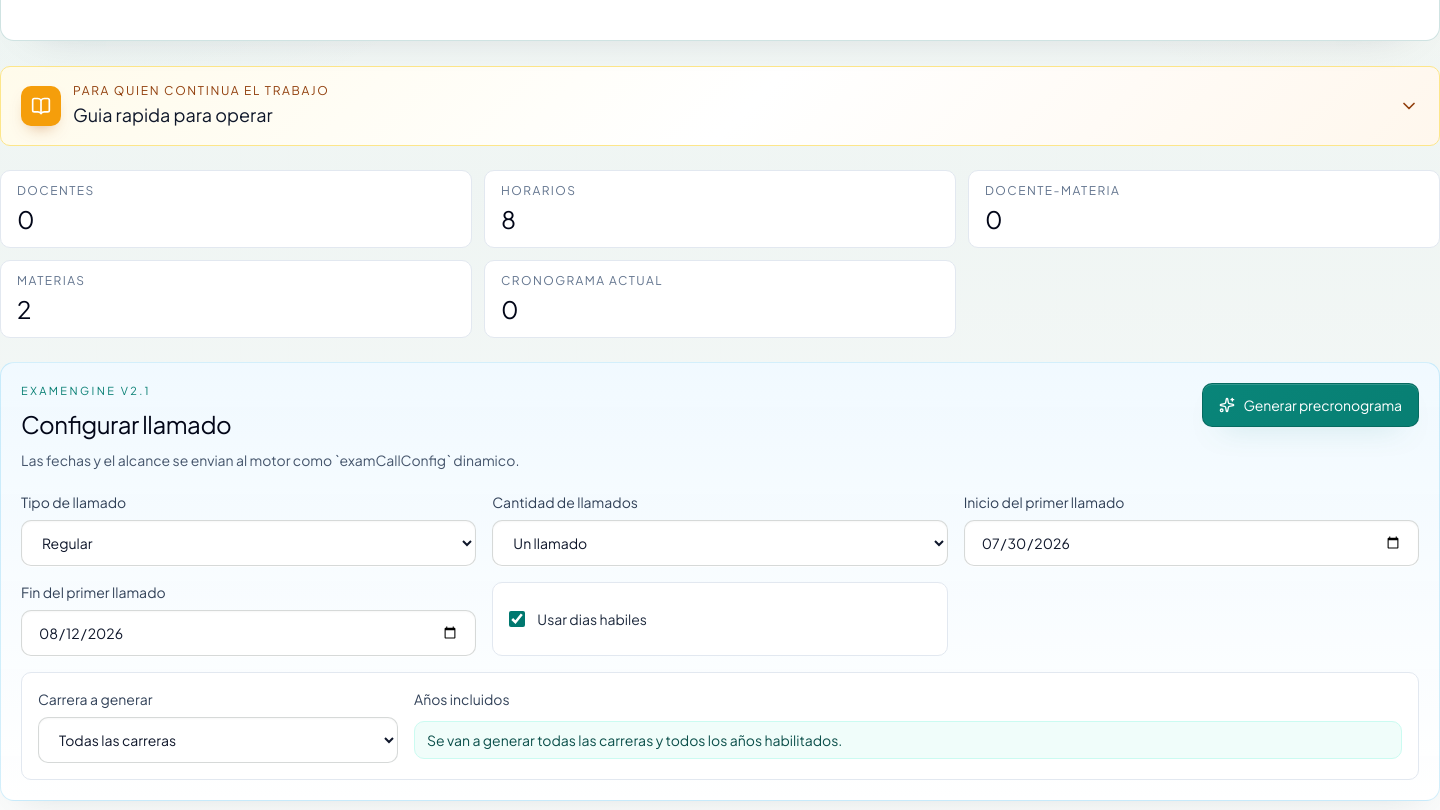
Scenario: ExamEngineV21FieldTestPage › regular: generar precronograma muestra combinar y tribunales juntos en "Armar mesas", con el precronograma colapsado
This screenshot has width=1440, height=810.
(page scrolled)
Step 1. Click the button "Generar precronograma" → (1311, 405), box [1202, 383, 1419, 427]
(page scrolled)
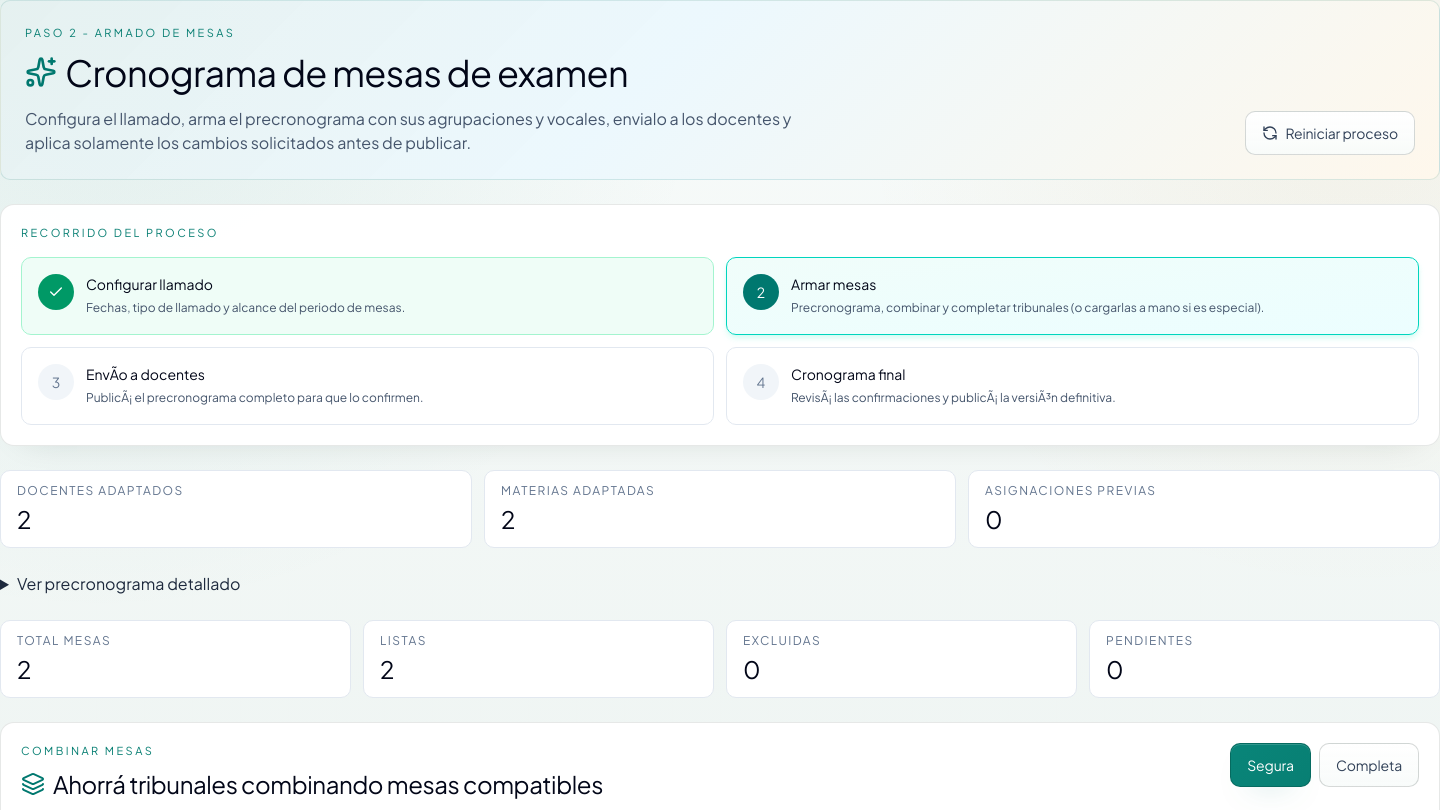
Check: the heading "Ahorrá tribunales combinando mesas compatibles" is shown, box [21, 768, 693, 800]
Check: the heading "Ver precronograma detallado" is shown, box [17, 573, 240, 594]
Note: Volver a "Configurar llamado" no reinicia nada del progreso.
Step 2. Click the button "Configurar llamado" → (56, 292), box [21, 257, 714, 335]
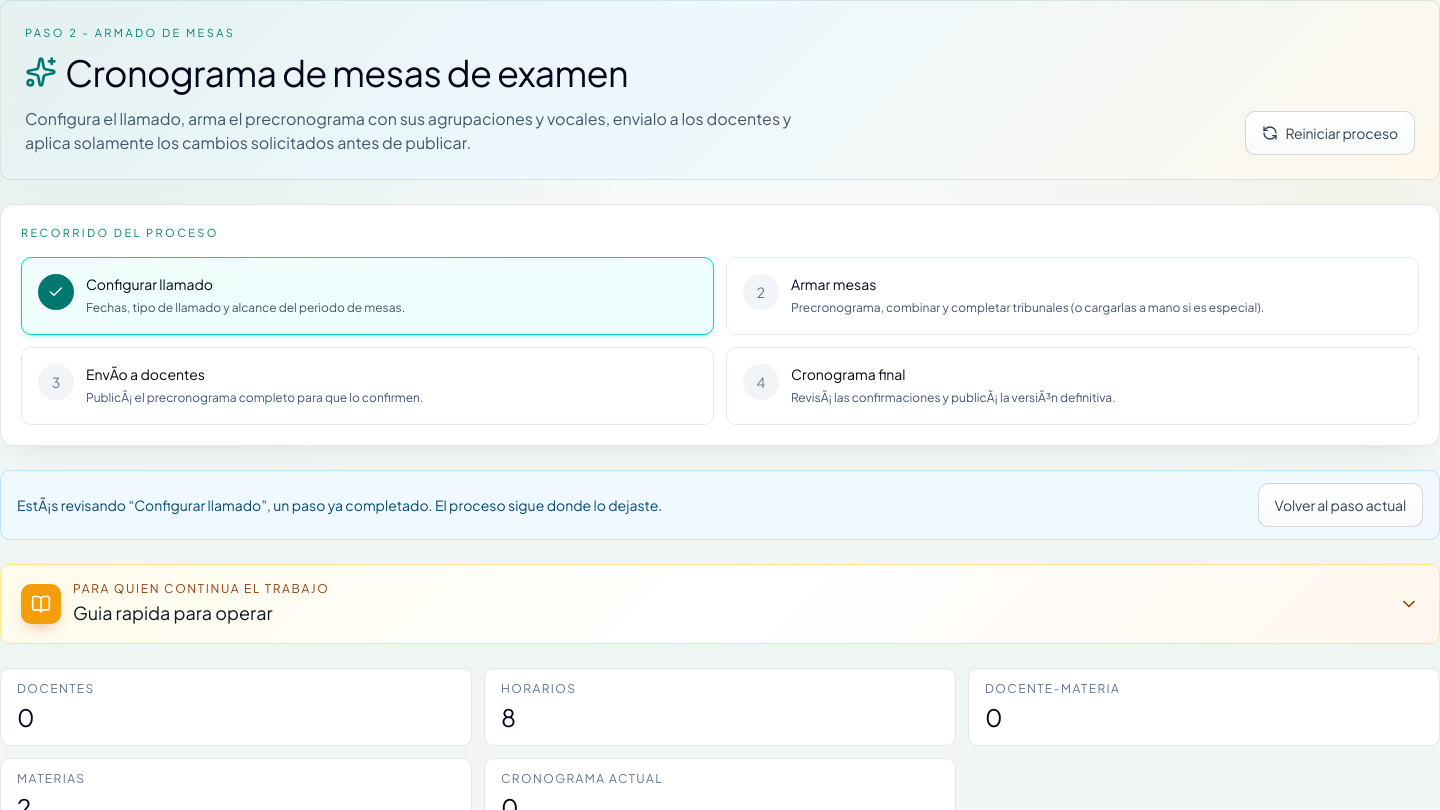
Check: the button "Volver al paso actual" is shown
Step 3. Click the button "Volver al paso actual" → (1340, 505), box [1258, 483, 1423, 527]
(page scrolled)
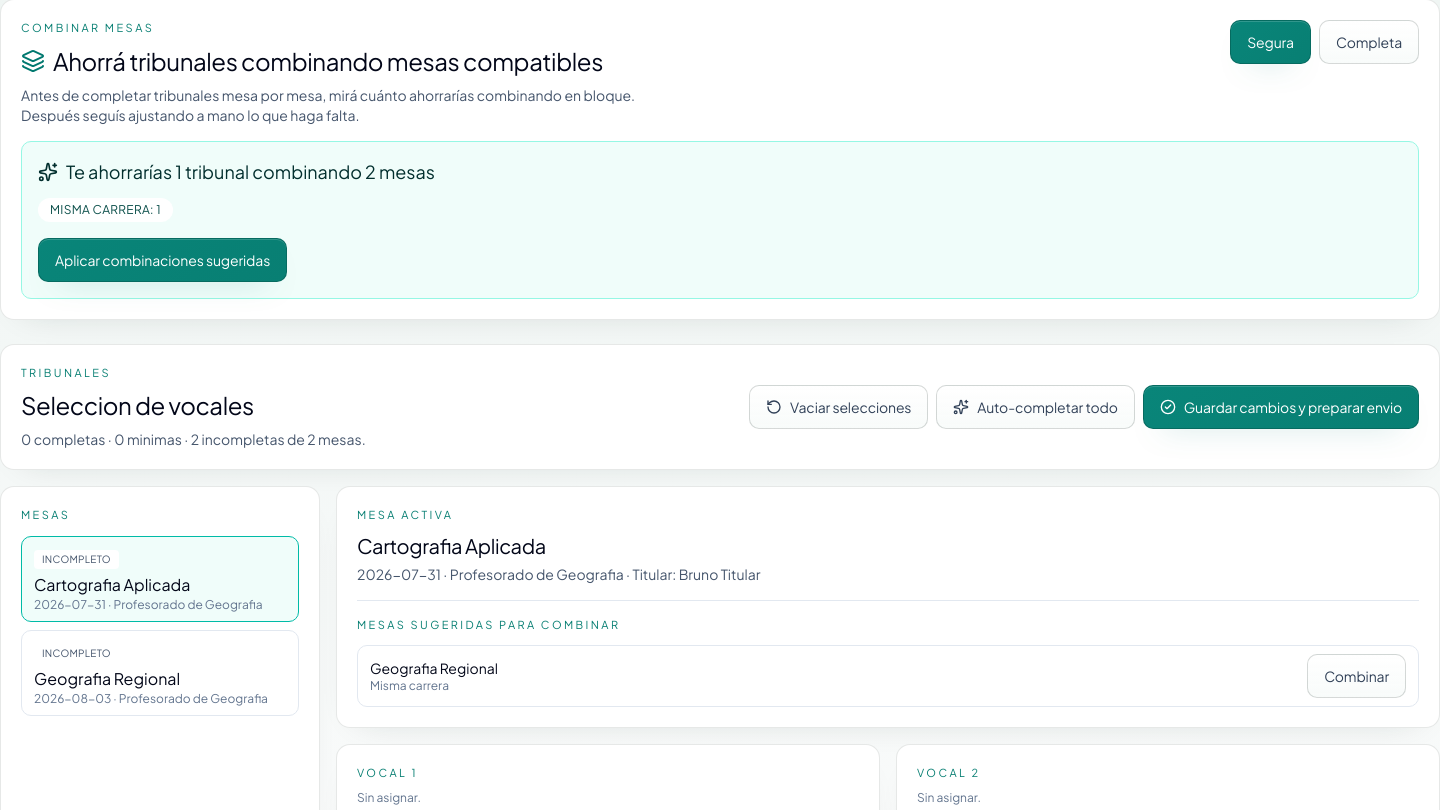
Check: the heading "Seleccion de vocales" is shown, box [21, 390, 254, 420]
